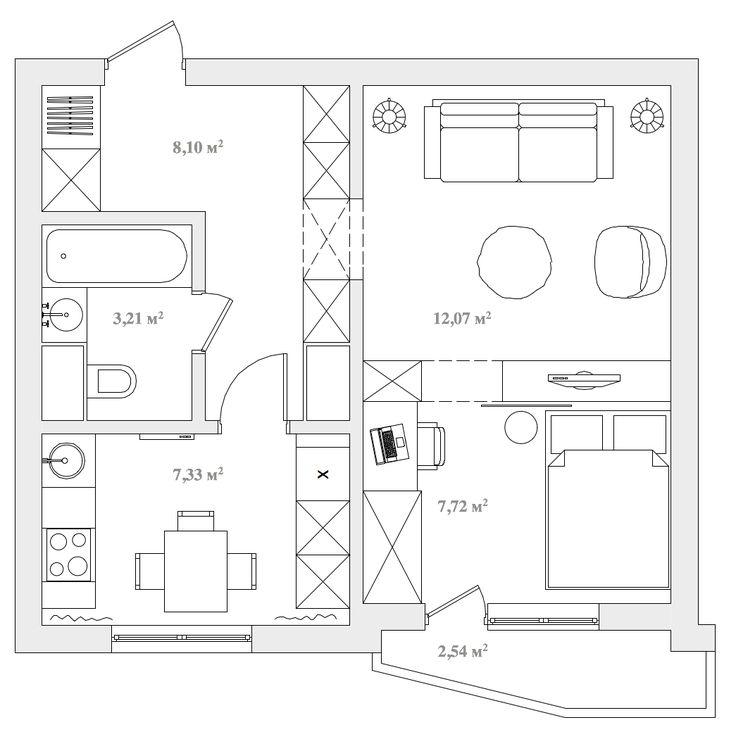balcony: (381, 632, 707, 709)
bathroom: (41, 226, 192, 421)
bedroom: (364, 402, 673, 604)
hallway: (41, 86, 352, 421)
kitchen: (41, 435, 350, 626)
living_room: (363, 86, 673, 404)
